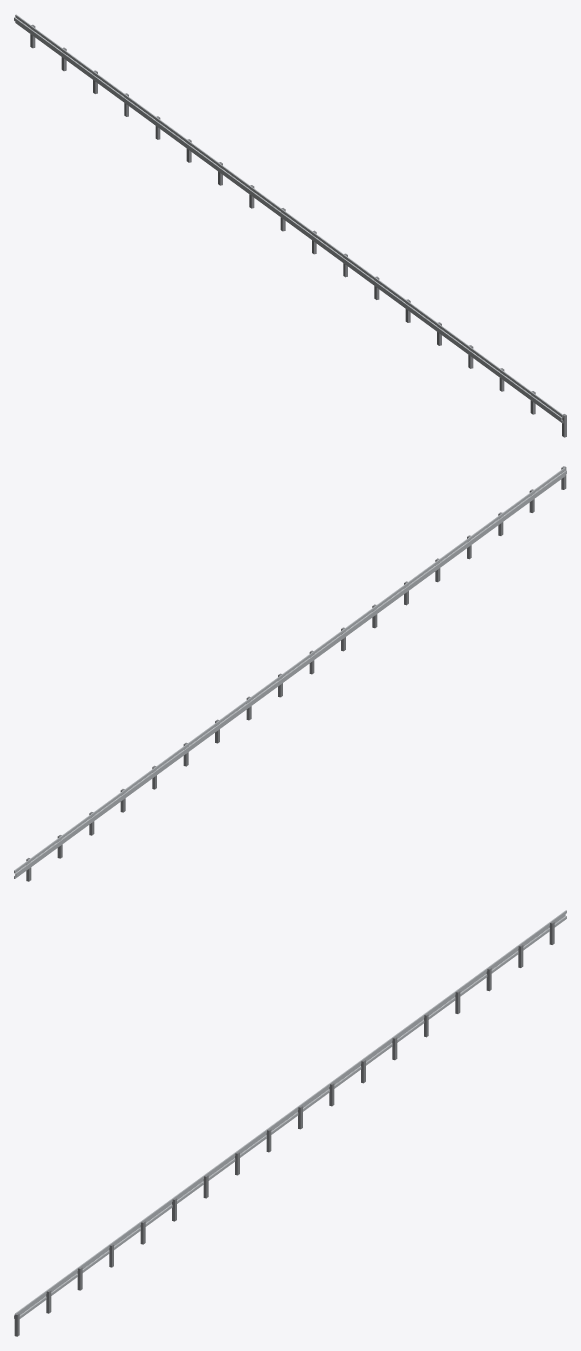
Rendered from Guardrail35.obj.
3 renders of one model, top to bottom at view 1: azimuth 30°, elevation 25°; view 2: azimuth 150°, elevation 25°; view 3: azimuth 330°, elevation 25°, orthographic.
Parts seen in each view (by area): view 1: Guardrail35; view 2: Guardrail35; view 3: Guardrail35.
Boxes of the visible parts, x1=… form: Guardrail35: x1=14, y1=14, x2=566, y2=437; Guardrail35: x1=14, y1=466, x2=566, y2=881; Guardrail35: x1=14, y1=910, x2=566, y2=1336.
Size of the model in its own units: 0.17 by 0.765 by 35.07.
1 material, 1 textured.
